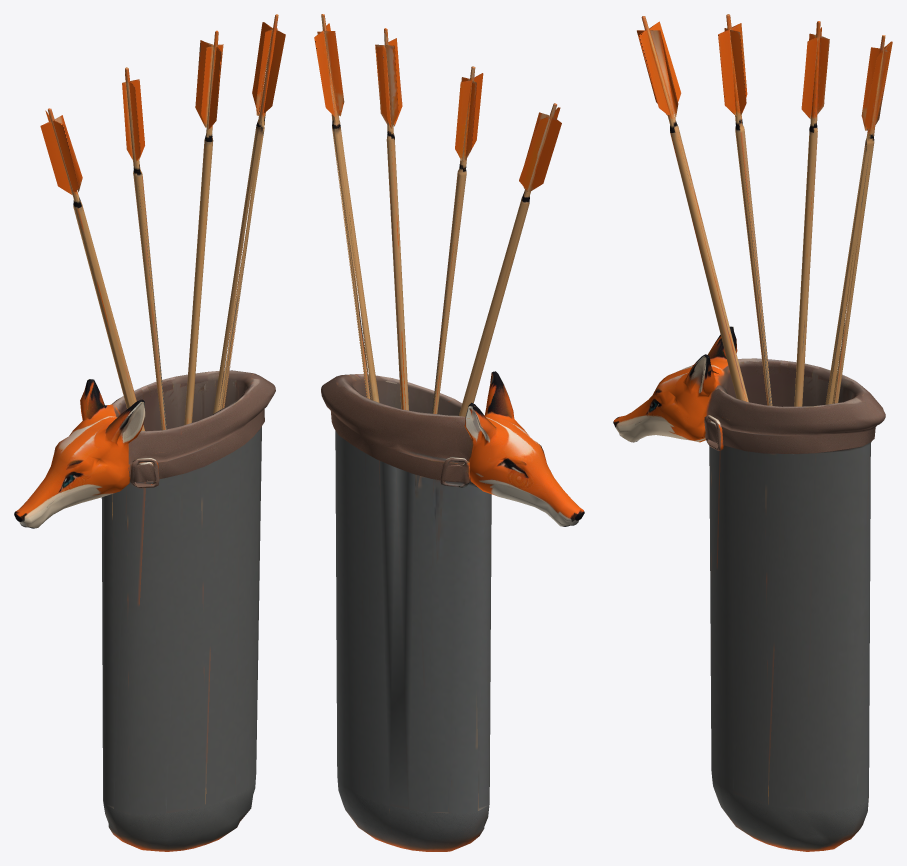
The model's file is foxfire-pack-quiver_refine.glb.
3 renders of one model, left to right at view 1: azimuth 30°, elevation 25°; view 2: azimuth 150°, elevation 25°; view 3: azimuth 330°, elevation 25°, orthographic. The views are drawn at different scales.
Size of the model in its own units: 0.3252 by 0.9507 by 0.0996.
1 material, 1 textured.
